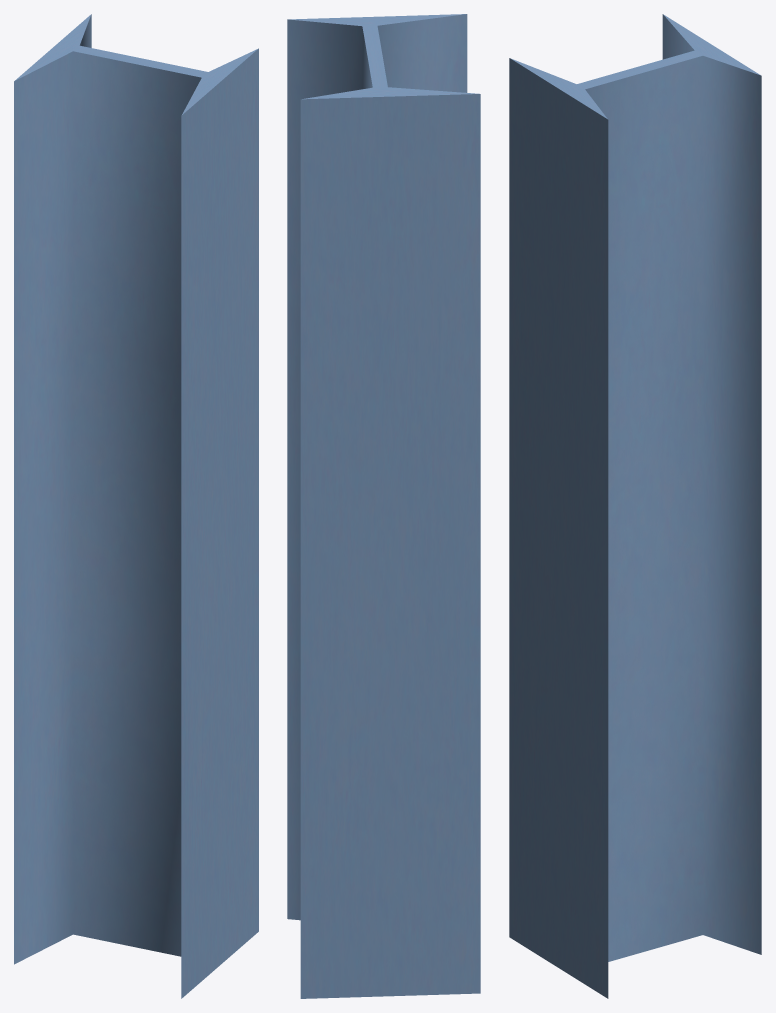
The model's file is viga de hierro ipn.fbx.
The picture shows the model from 3 angles, left to right: view 1: azimuth 30°, elevation 25°; view 2: azimuth 150°, elevation 25°; view 3: azimuth 270°, elevation 25°; orthographic projection. The views are drawn at different scales.
Visible parts, largest first — view 1: IPN_viga_metal; view 2: IPN_viga_metal; view 3: IPN_viga_metal.
Part boxes in pixels (bbox=[...]): IPN_viga_metal: bbox=[14, 14, 258, 998]; IPN_viga_metal: bbox=[287, 14, 480, 998]; IPN_viga_metal: bbox=[509, 14, 761, 998].
Bounding box in the file's own units: 56.67 × 57.21 × 220.
Materials: 1 (1 with a texture image).
